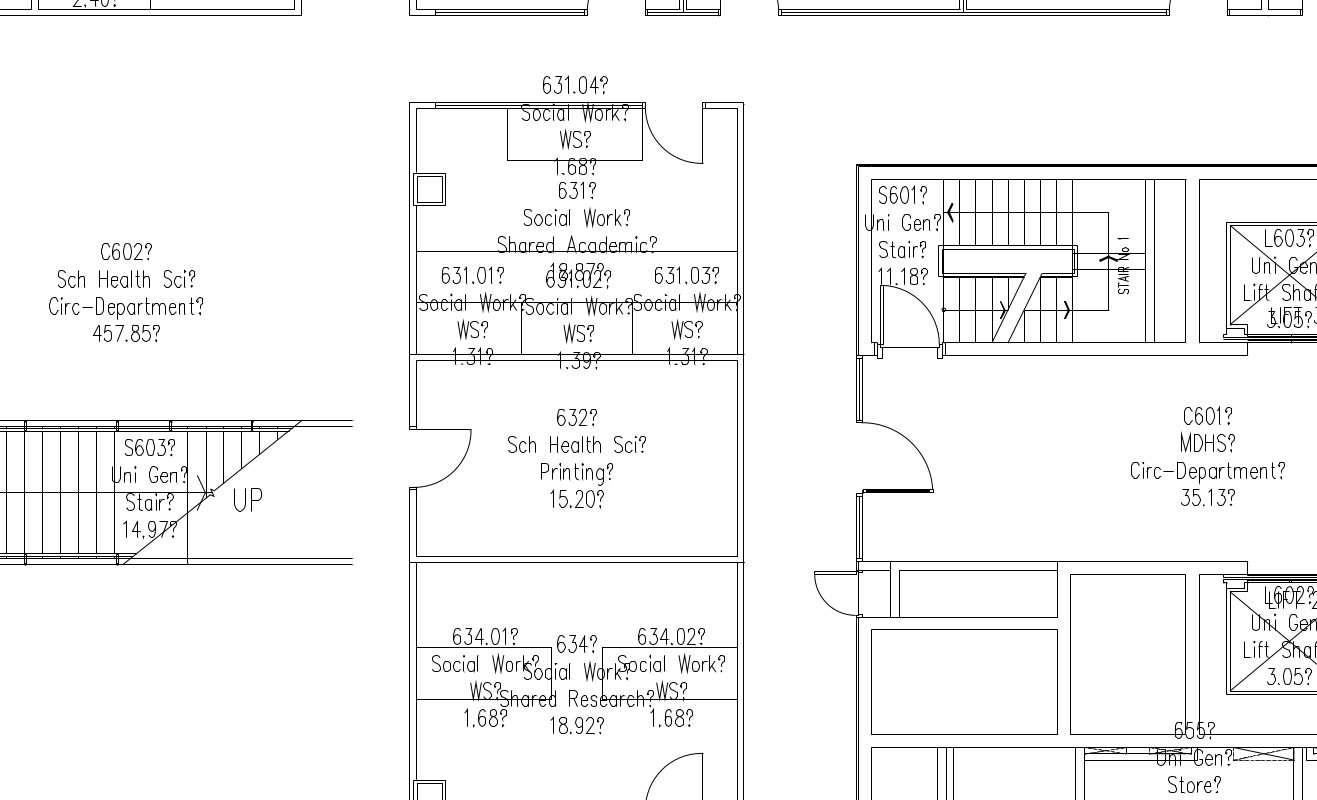door: (861, 416, 940, 499), (877, 280, 942, 353), (643, 98, 708, 171), (796, 561, 862, 625), (642, 736, 708, 800), (417, 425, 483, 489)
